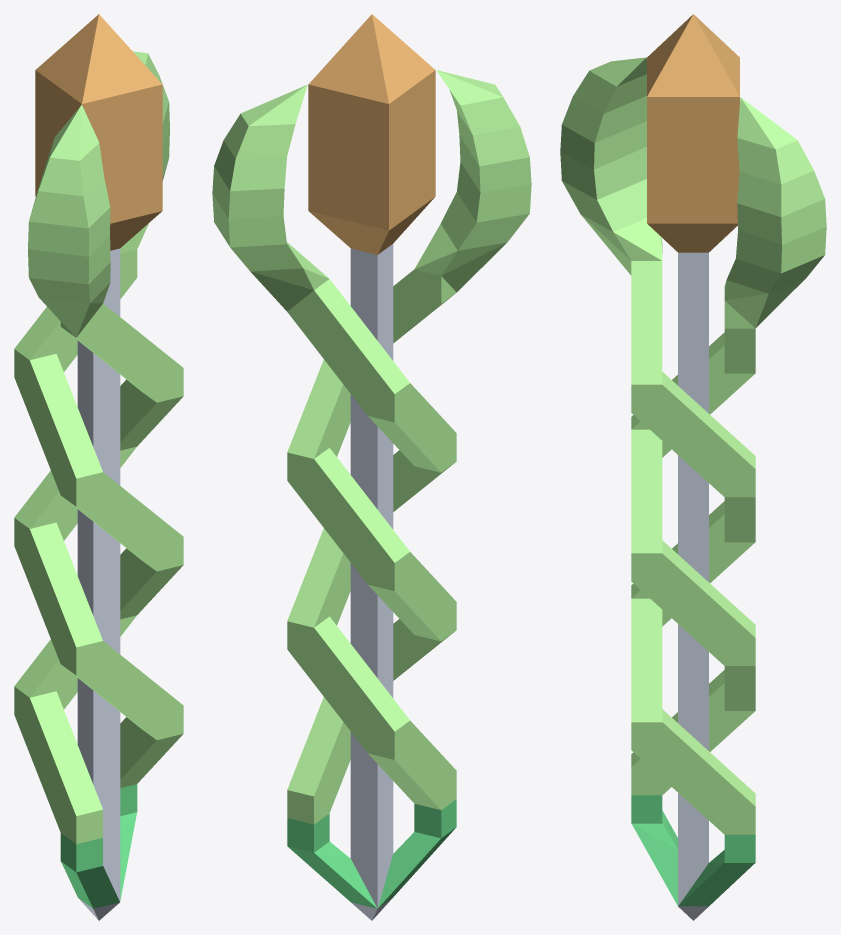
Rendered from chronon_wand.obj.
3 views of the same model, side by side, from view 1: azimuth 30°, elevation 25°; view 2: azimuth 150°, elevation 25°; view 3: azimuth 270°, elevation 25° (orthographic).
Visible parts, largest first — view 1: 2, 1, Gem, South-West, size, North-East; view 2: 2, Gem, 1, South-West, North-East, size; view 3: 1, Gem, North-East, South-West, size, 2.
Part boxes in pixels (x1,y1,x2,y2): 2: (14, 250, 137, 844); 1: (60, 303, 183, 787); Gem: (35, 14, 162, 250); South-West: (28, 104, 119, 908); size: (77, 248, 120, 920); North-East: (120, 51, 169, 900); 2: (287, 279, 456, 809); Gem: (308, 14, 435, 254); 1: (287, 269, 456, 824); South-West: (378, 70, 531, 908); North-East: (212, 84, 377, 908); size: (350, 244, 393, 920); 1: (631, 261, 755, 834); Gem: (647, 14, 739, 252); North-East: (678, 97, 826, 906); South-West: (560, 57, 677, 905); size: (678, 252, 708, 920); 2: (631, 301, 755, 795).
Size of the model in its own units: 0.5366 by 2.02 by 0.5366.
Materials: 1 (1 with a texture image).
